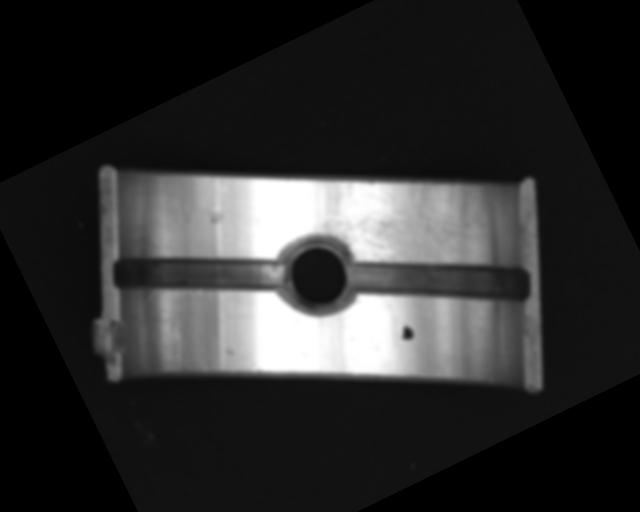blot: (396, 321, 416, 344)
bruise: (204, 204, 227, 228), (223, 344, 237, 357)
gap: (344, 197, 537, 364), (105, 195, 291, 350)
hole: (266, 221, 369, 328)
nick: (153, 319, 198, 373)
scratch: (287, 129, 485, 318)
